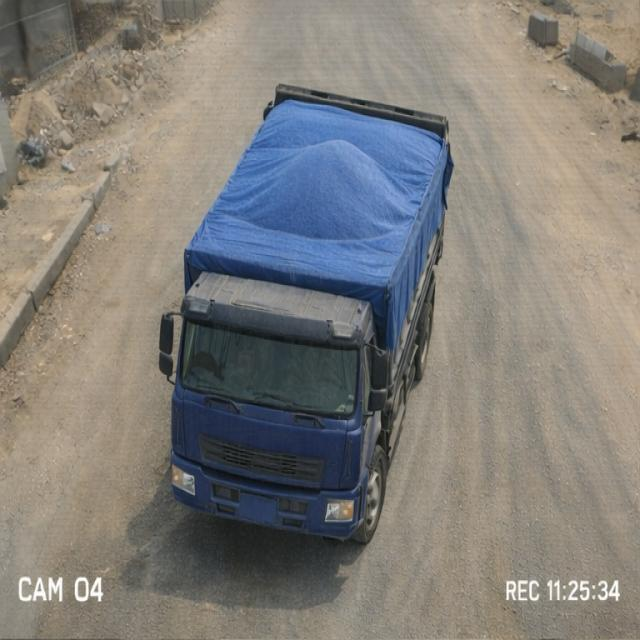trailer: (178, 79, 454, 263)
truck: (153, 56, 504, 547)
